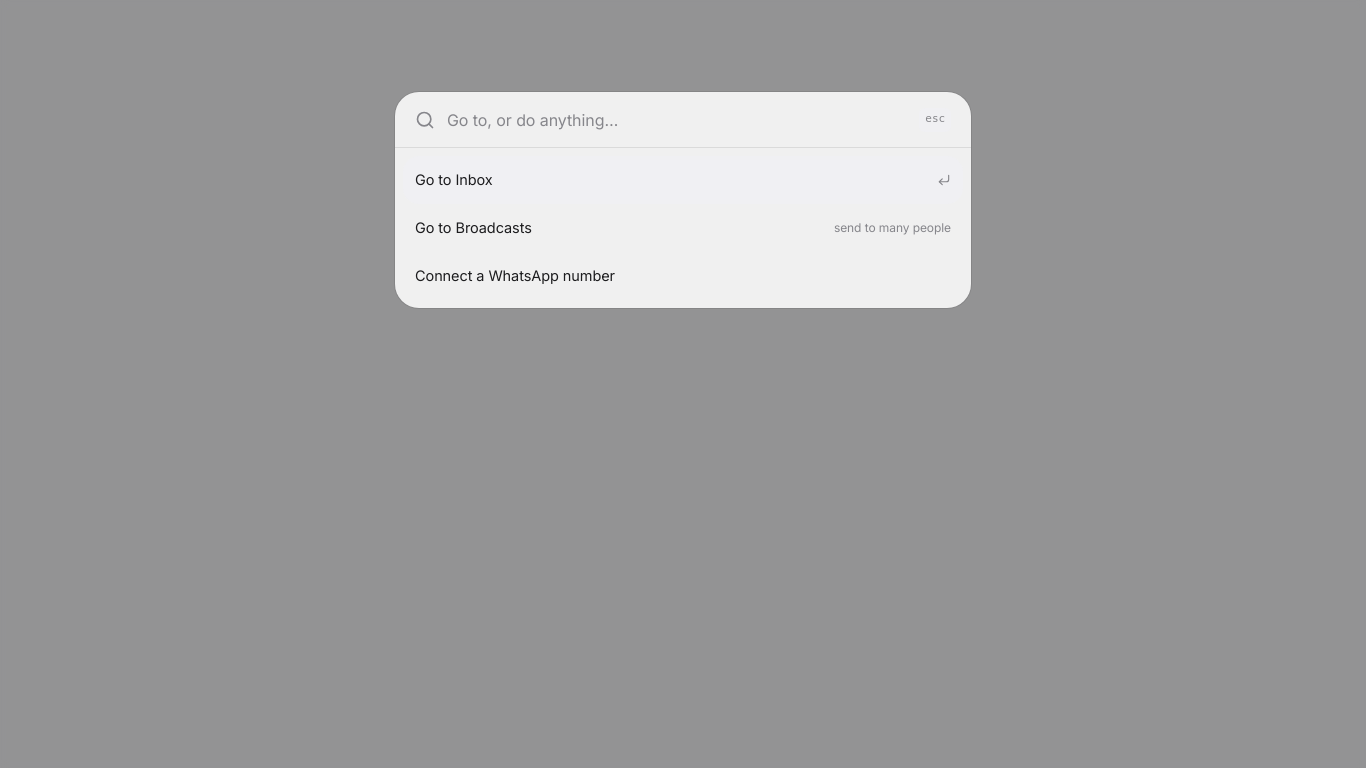
Scenario: the search and command bar › without Riwo there is no Ask row, and the placeholder does not promise it
The image size is (1366, 768).
Type "anything at all" into the field named "Search commands" at (677, 120), box [447,108,907,132]
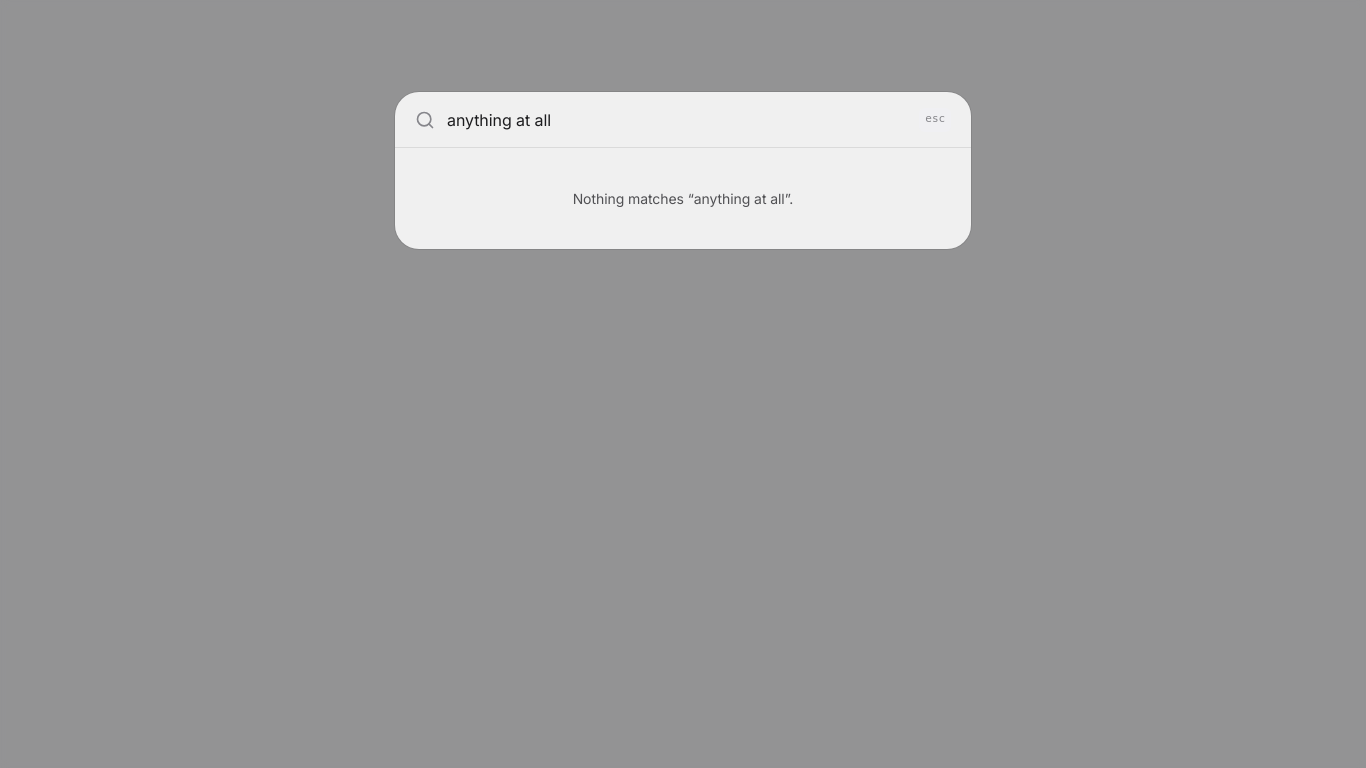
Now the list item "Nothing matches “anything at all”." is shown, box [573,190,793,207]
